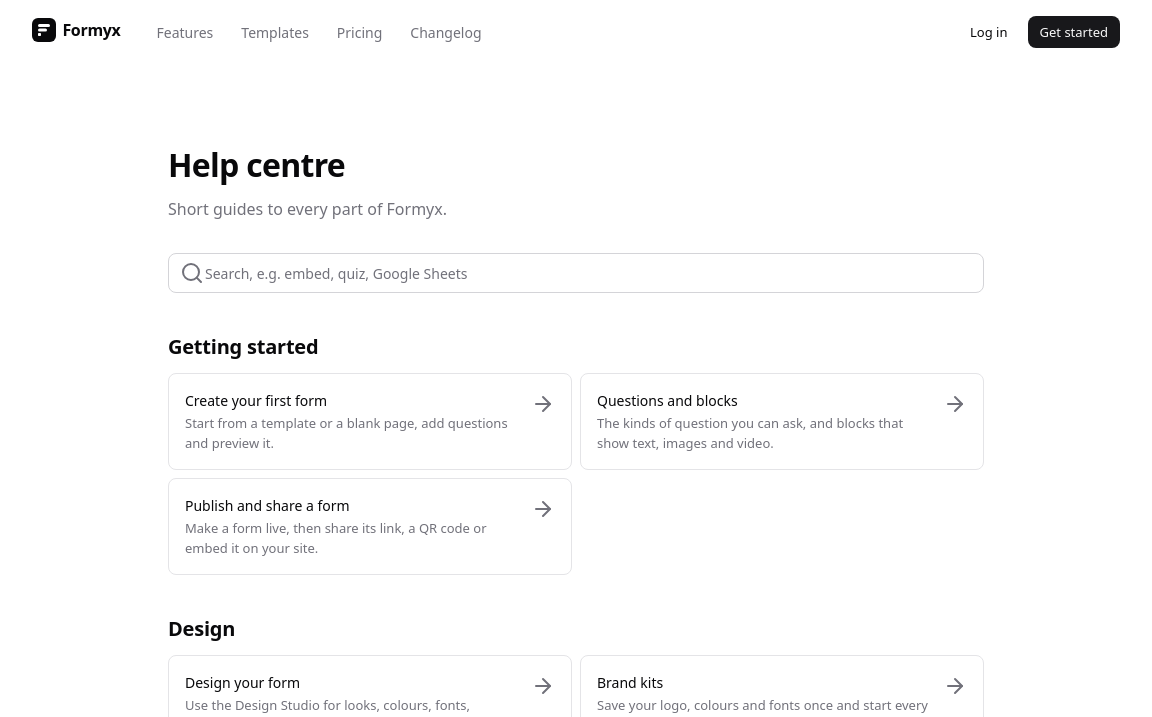
Test: HelpCentrePage › lists articles by topic, and searches them from the URL
Expected: the heading "Help centre" is shown, [168,143,345,186]
In the search field named "Search help articles": (576, 273) [168,253,984,293], type "quiz"
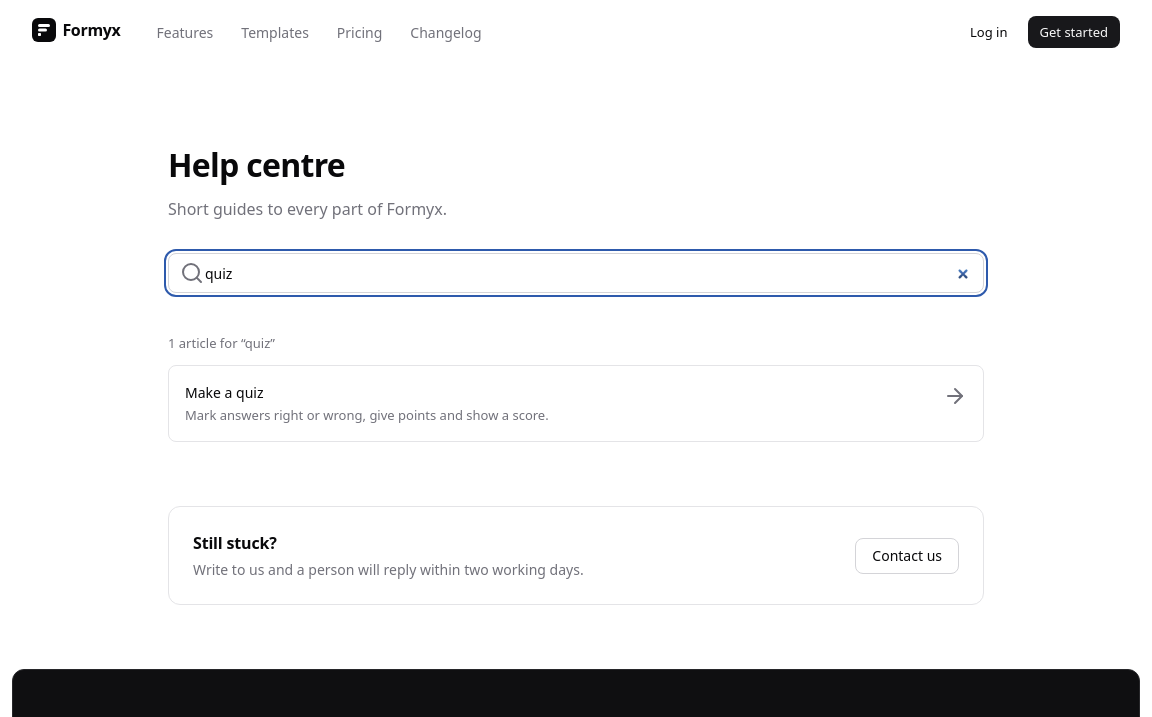
Expected: the link "Make a quiz" is shown, [168,365,984,442]
Expected: the heading "1 article for “quiz”" is shown, [168,334,275,352]
